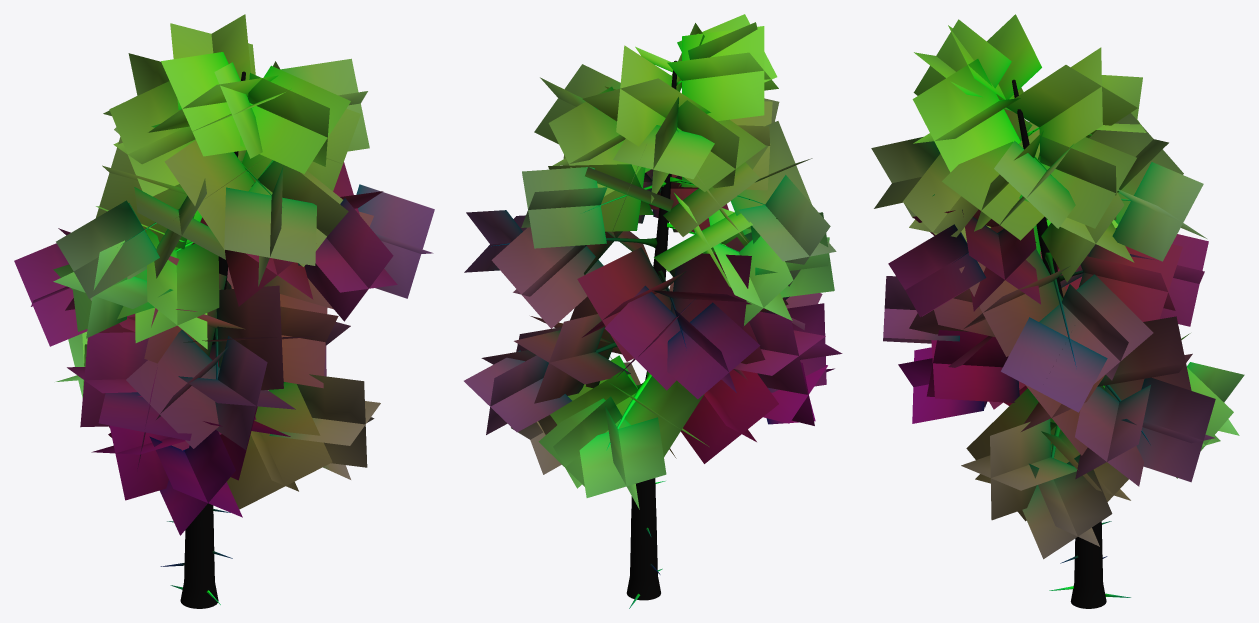
Rendered from URP_P7_Tree_2_LOD_0.fbx.
The picture shows the model from 3 angles, left to right: view 1: azimuth 30°, elevation 25°; view 2: azimuth 150°, elevation 25°; view 3: azimuth 270°, elevation 25°; orthographic projection. The views are drawn at different scales.
Visible parts, largest first — view 1: Tree_2_LOD_0; view 2: Tree_2_LOD_0; view 3: Tree_2_LOD_0.
Part boxes in pixels (<box>): Tree_2_LOD_0: <box>14,14,434,608</box>; Tree_2_LOD_0: <box>464,14,842,608</box>; Tree_2_LOD_0: <box>871,14,1244,608</box>.
Size of the model in its own units: 284 by 411 by 250.
